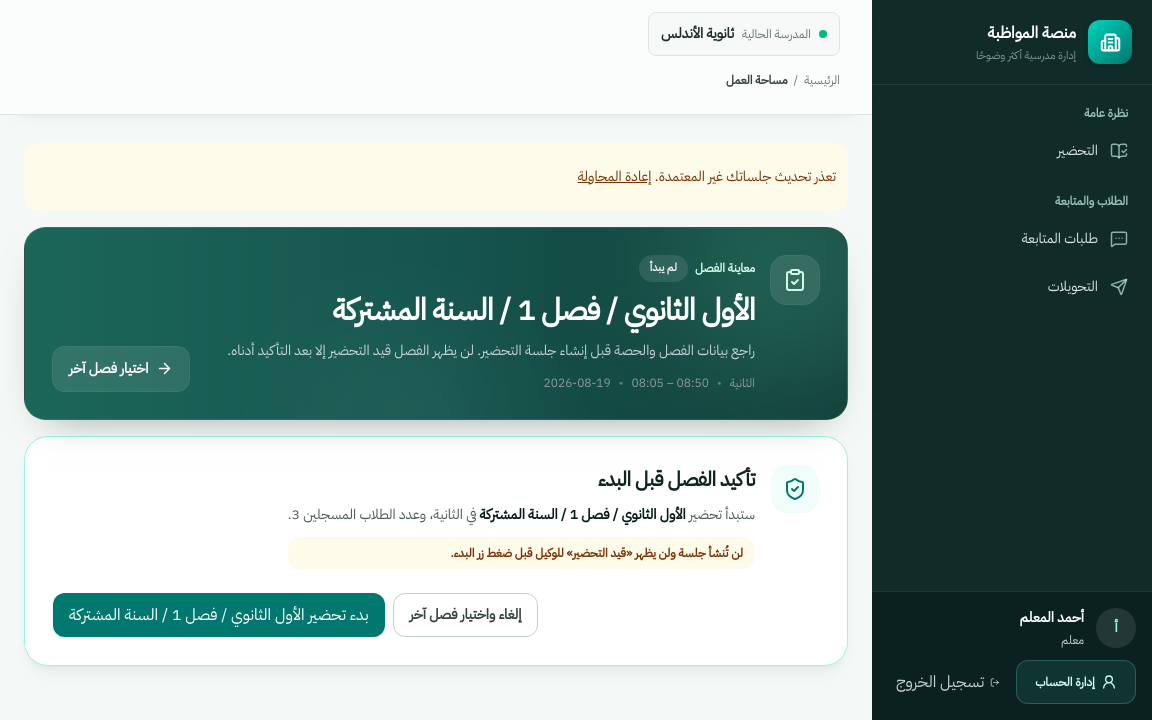
Test case: attendance › offers present and absent only and submits absent exceptions
Click the button with test id "start-attendance".
click(219, 614)  # box [53,592,384,636]
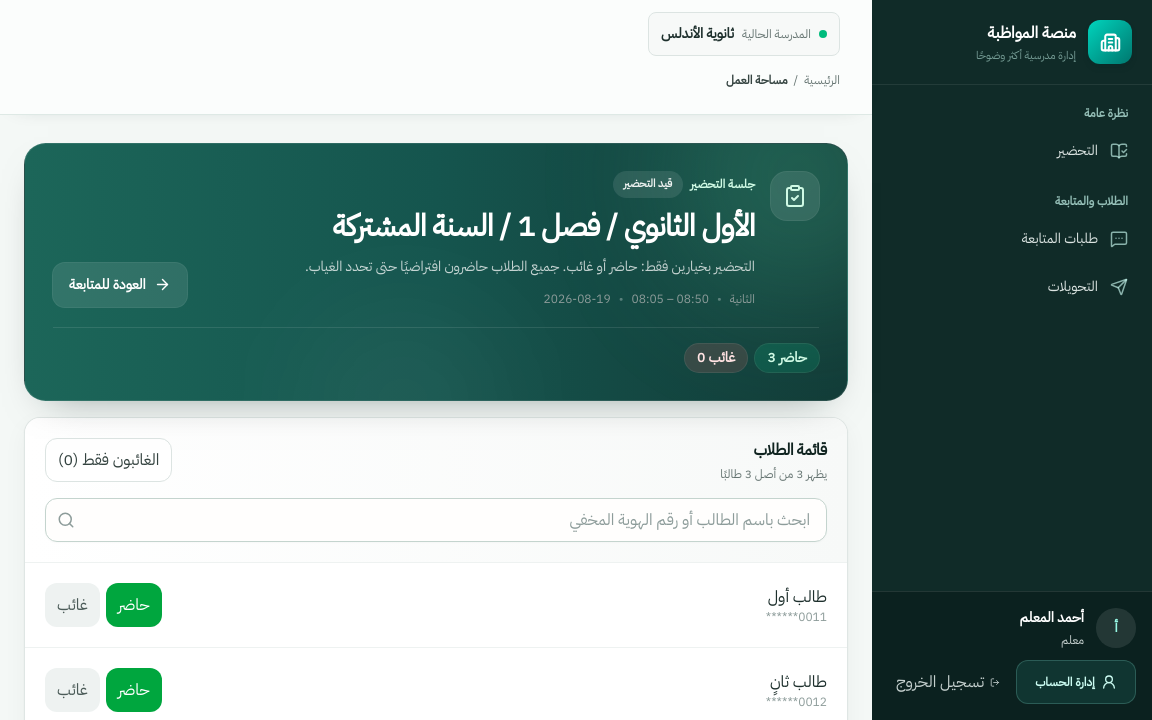
Check: the button "حاضر" in the row of "طالب أول" is shown, box [106,582,162,626]
Check: the button "غائب" in the row of "طالب أول" is shown
Click the button "غائب" in the row of "طالب أول".
click(72, 604)  # box [45,582,100,626]
(page scrolled)
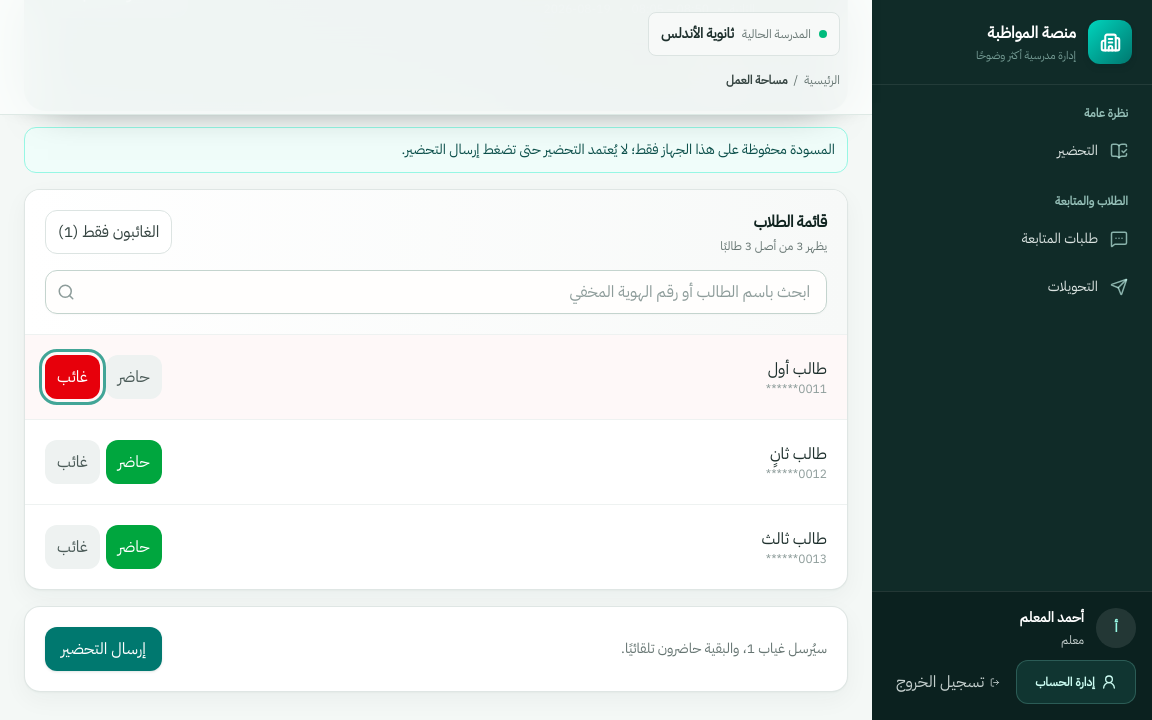
Check: the element with test id "live-summary" shows "حاضر 2", box [685,54,819,82]
Check: the element with test id "live-summary" shows "غائب 1", box [685,54,819,82]
Click the button with test id "submit-attendance".
click(103, 648)  # box [45,626,162,670]
(page scrolled)
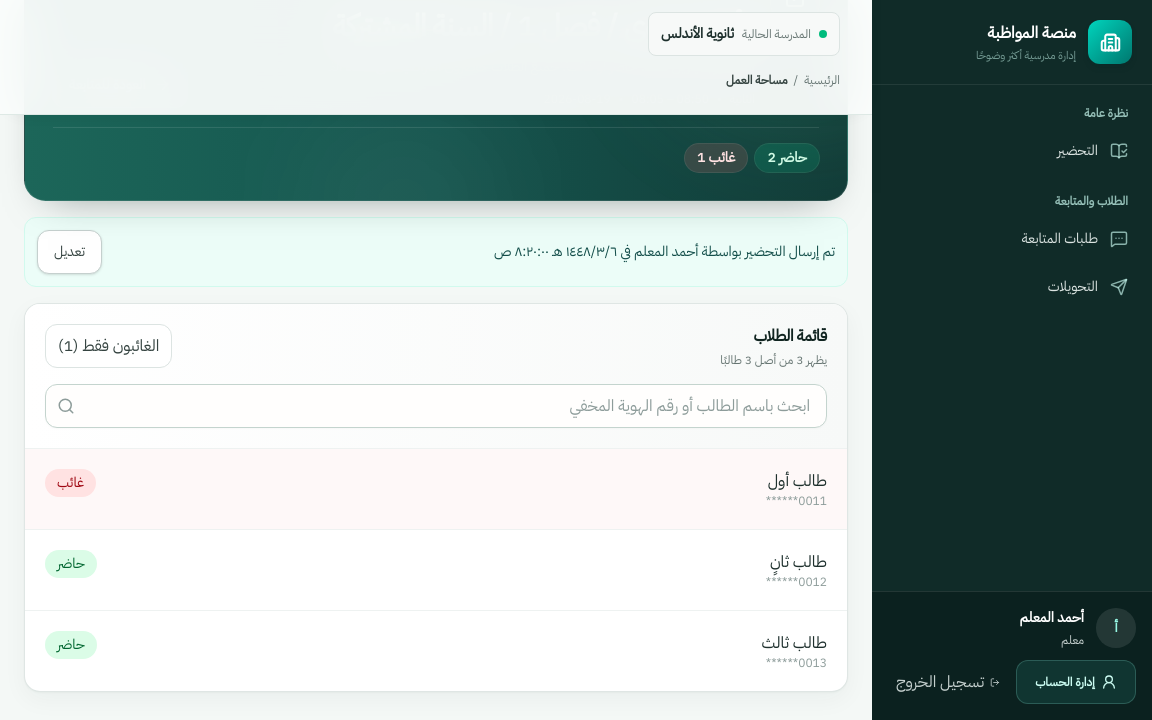
Check: the element with test id "submitted-banner" shows "أحمد المعلم", box [634,240,698,262]
